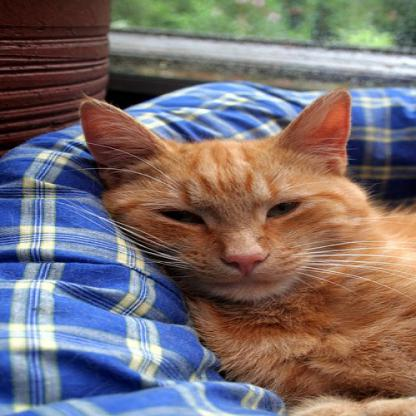cat: (57, 87, 415, 401)
